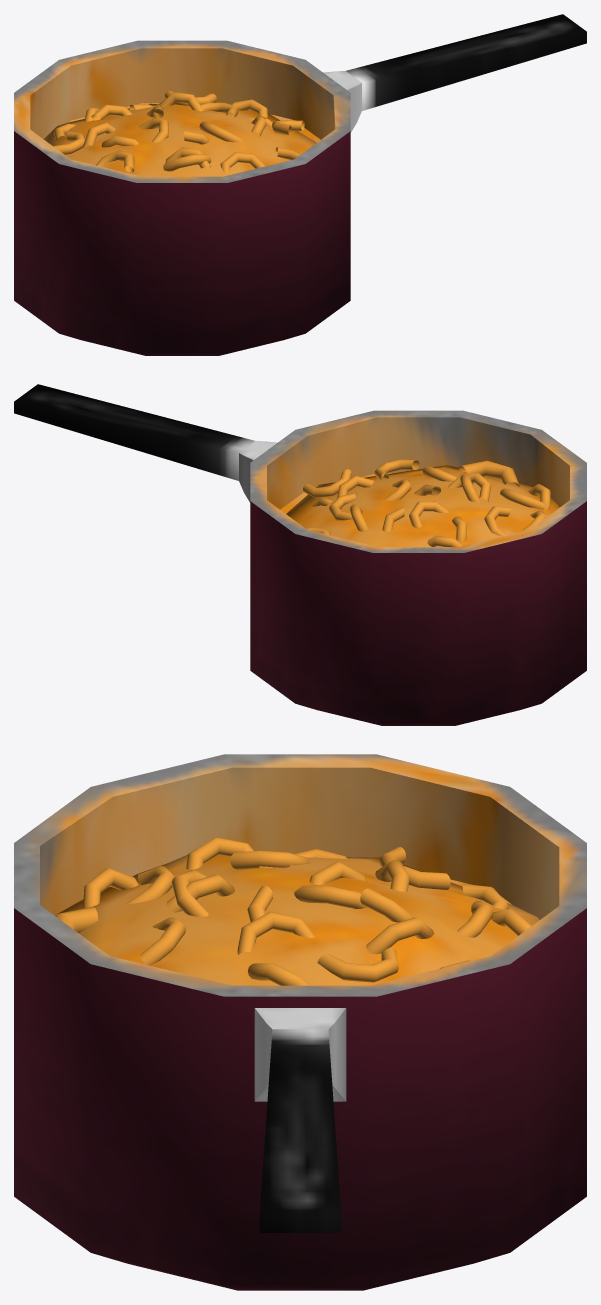
The model's file is Saucepan_maccheese.fbx.
The picture shows the model from 3 angles, top to bottom: view 1: azimuth 30°, elevation 25°; view 2: azimuth 150°, elevation 25°; view 3: azimuth 270°, elevation 25°; orthographic projection. The views are drawn at different scales.
Parts seen in each view (by area): view 1: SaucepanMC; view 2: SaucepanMC; view 3: SaucepanMC.
Boxes of the visible parts, x1,y1,x2,y2 form: SaucepanMC: (14, 14, 586, 355); SaucepanMC: (14, 384, 586, 725); SaucepanMC: (14, 754, 586, 1290).
Bounding box in the file's own units: 60.76 × 19.98 × 32.91.
